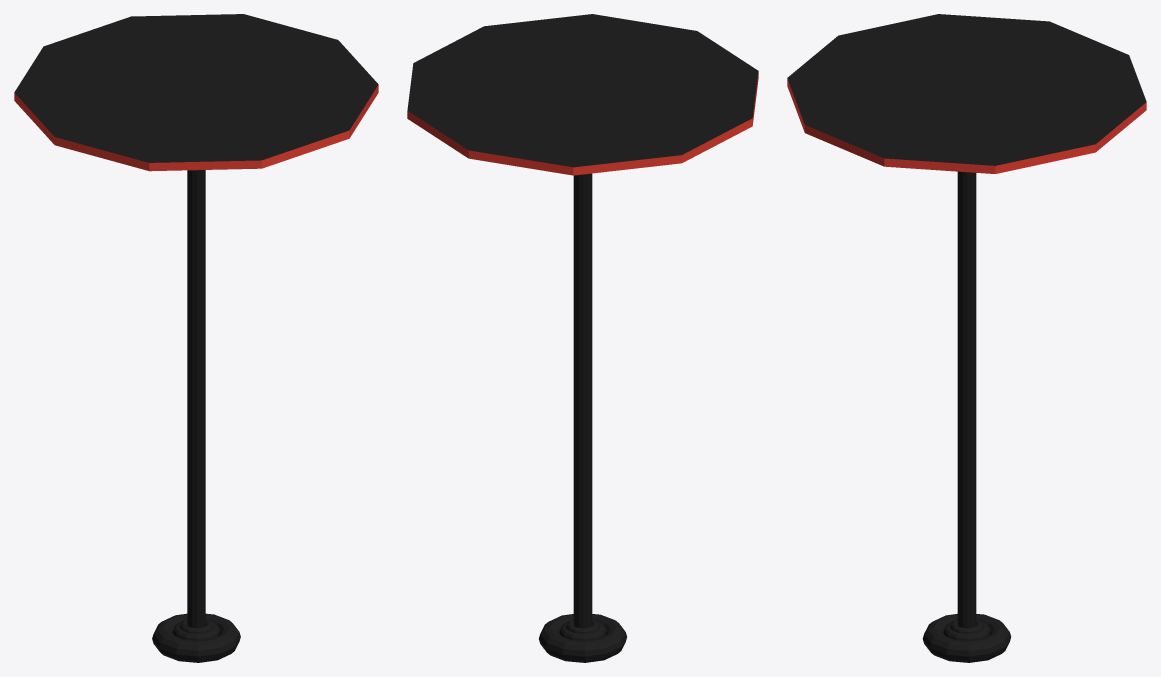
File: bar table.fbx
3 views of the same model, side by side, from view 1: azimuth 30°, elevation 25°; view 2: azimuth 150°, elevation 25°; view 3: azimuth 270°, elevation 25° (orthographic).
Visible parts, largest first — view 1: group381821202; view 2: group381821202; view 3: group381821202.
Part boxes in pixels (x1,y1,x2,y2): group381821202: (14, 14, 378, 662); group381821202: (407, 14, 758, 662); group381821202: (787, 14, 1146, 662).
Bounding box in the file's own units: 271 × 465 × 271.
